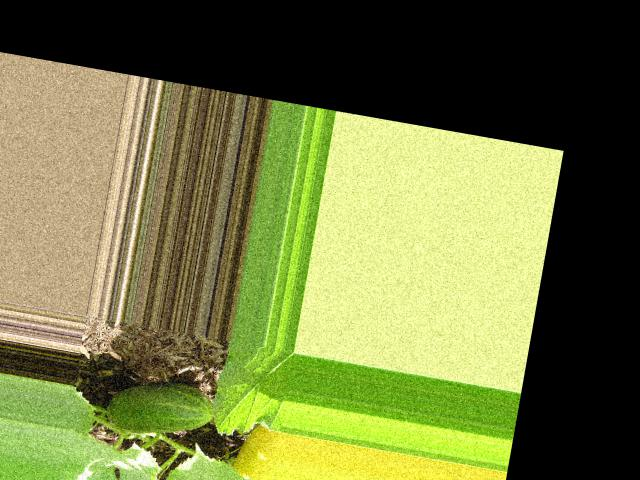cucumber: (103, 370, 217, 446)
